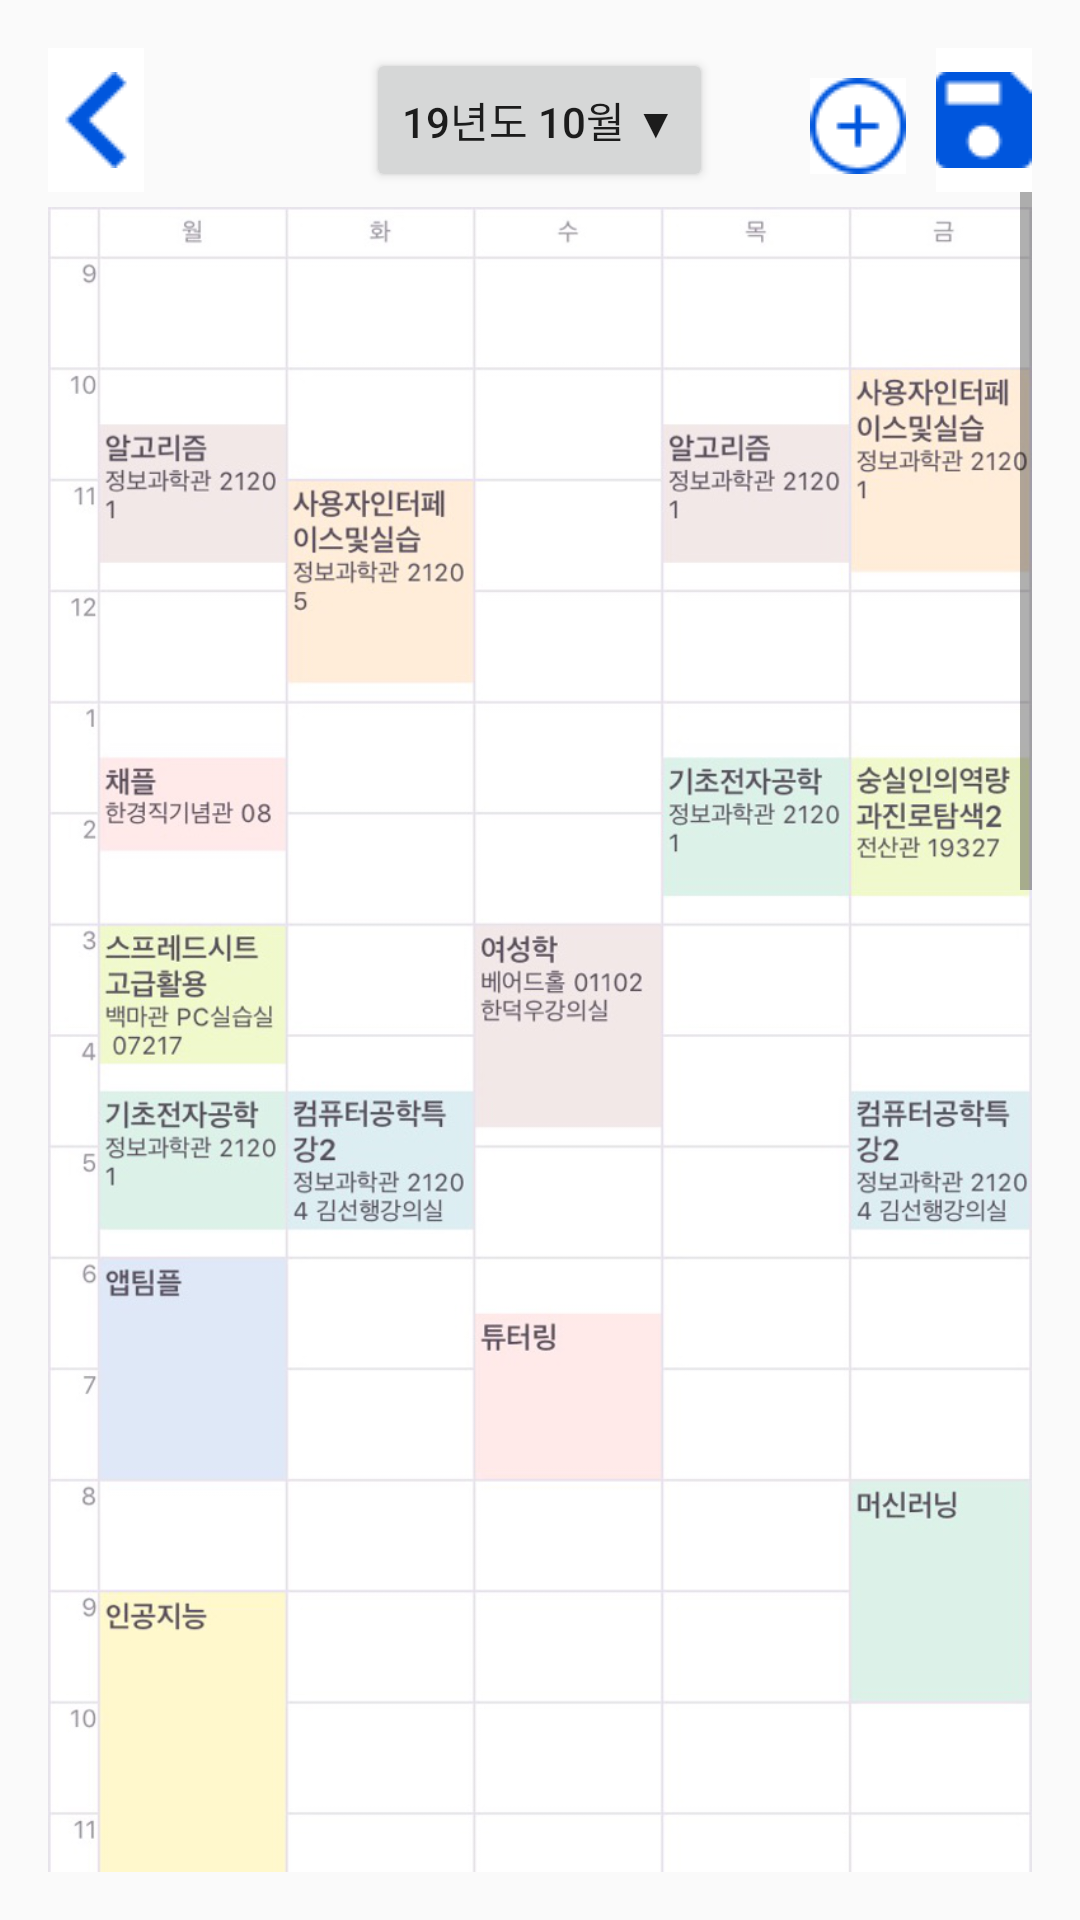

Screen size 1080 × 1920. Icon name, then its box in pixels as (x1, y1, x2, y2):
add: (810, 78, 906, 174)
back: (65, 72, 127, 168)
save: (936, 72, 1032, 168)
